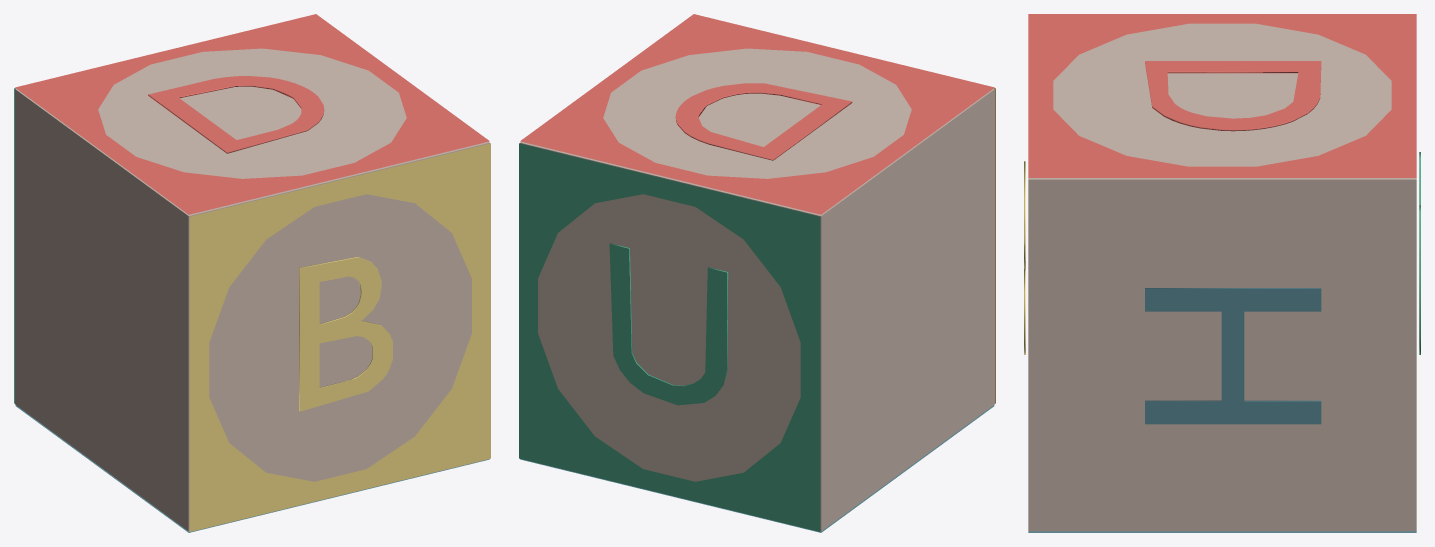
The picture shows the model from 3 angles, left to right: view 1: azimuth 30°, elevation 25°; view 2: azimuth 150°, elevation 25°; view 3: azimuth 270°, elevation 25°; orthographic projection. The views are drawn at different scales.
Parts seen in each view (by area): view 1: cube; view 2: cube; view 3: cube.
Part boxes in pixels (box(x1,y1,x2,y2)): cube: box(14, 14, 490, 532); cube: box(519, 14, 995, 532); cube: box(1024, 14, 1420, 532).
Size of the model in its own units: 0.0453 by 0.046 by 0.046.
